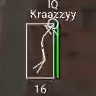hacks_1: (25, 1, 77, 94)
